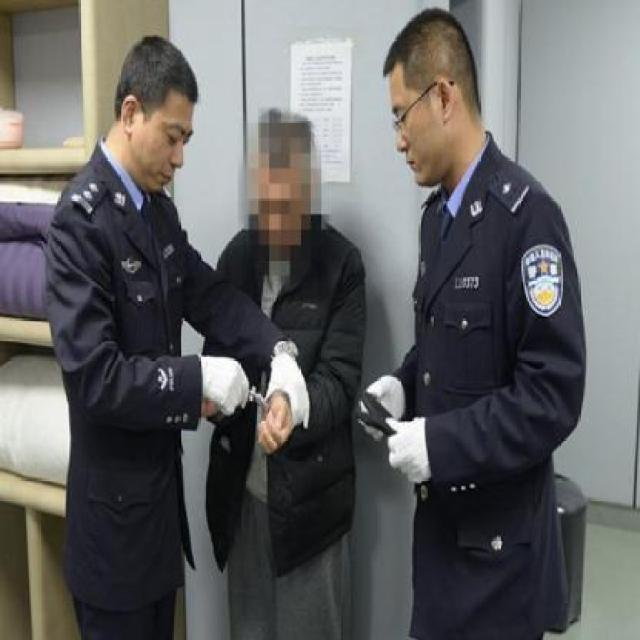face_nomask: (117, 106, 195, 191), (391, 74, 432, 183)
hand_glove: (200, 352, 248, 416), (266, 358, 308, 431), (359, 374, 403, 441), (386, 416, 428, 484)
hand_noglove: (255, 400, 292, 455)
head_nohelmet: (111, 32, 206, 120), (374, 12, 466, 90)
person: (369, 3, 583, 640), (63, 29, 222, 640), (217, 114, 360, 640)
